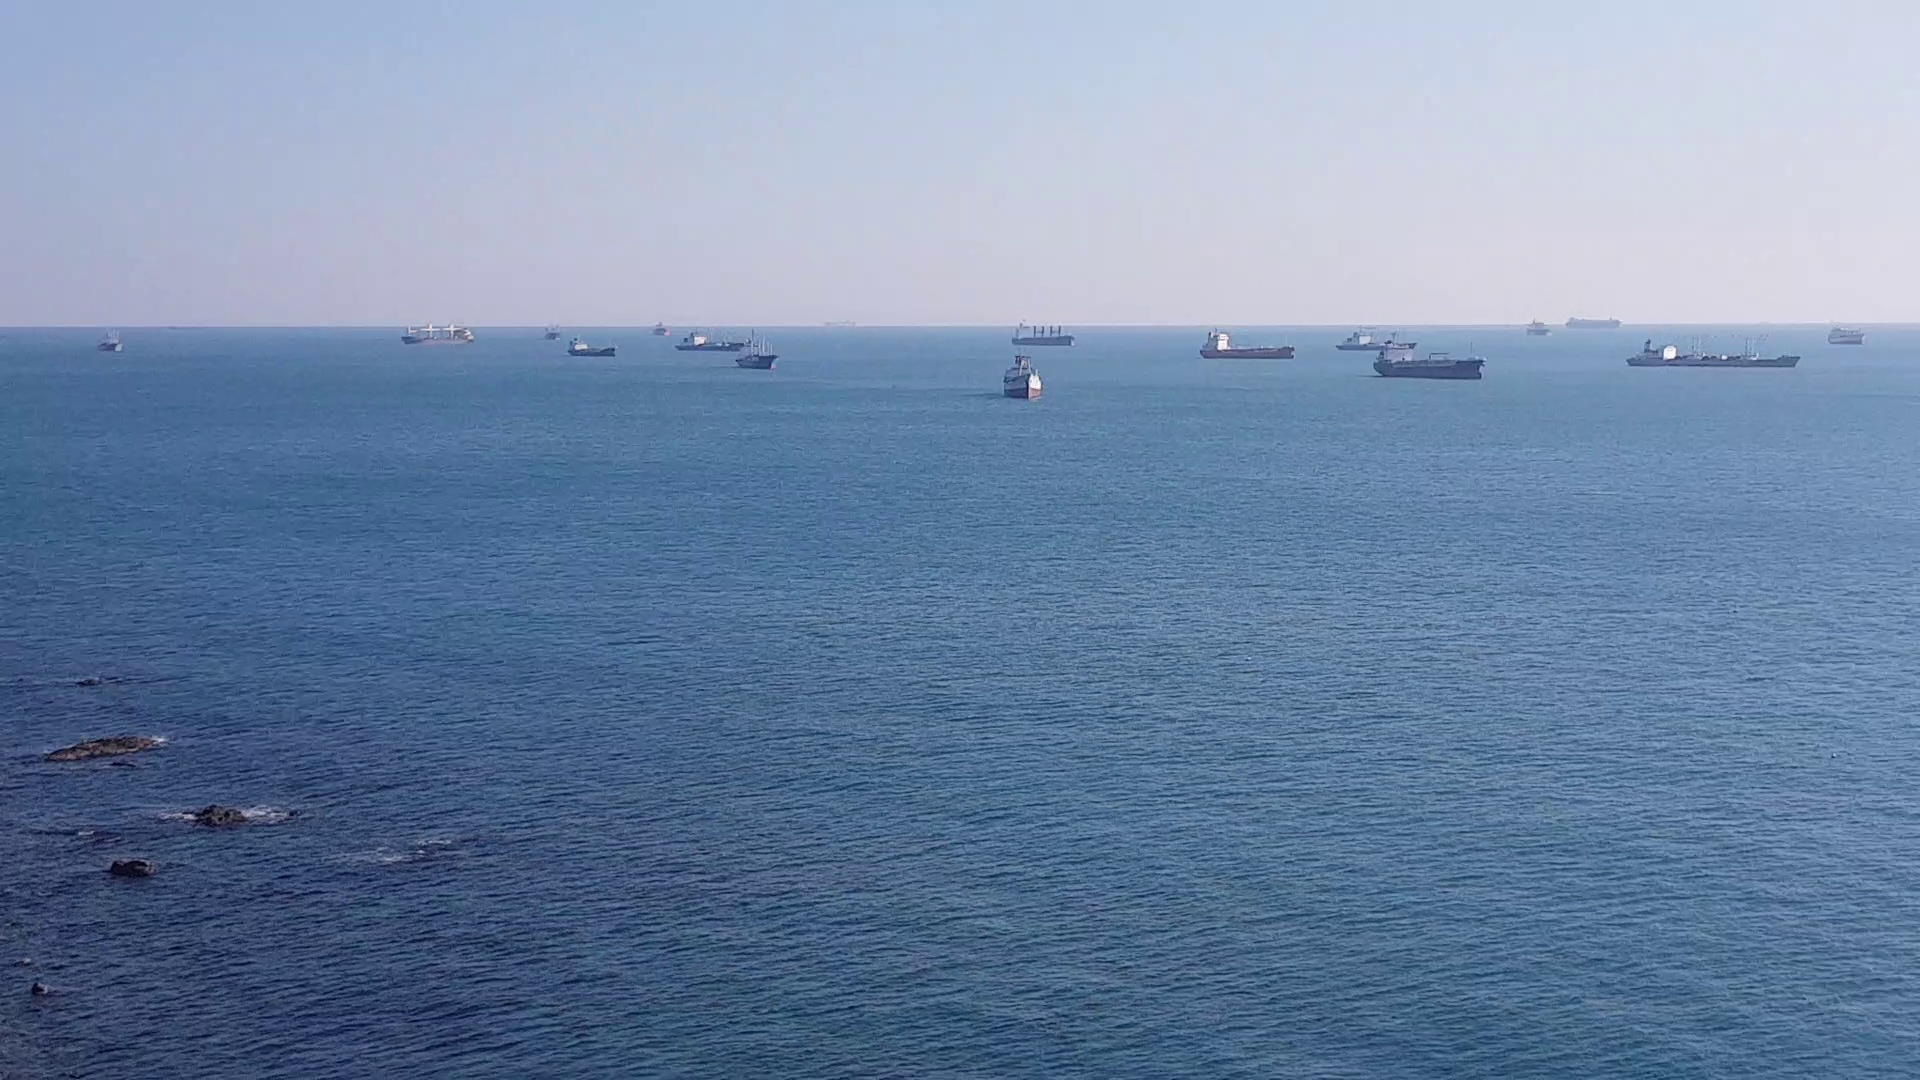Bulk_Carrier: (1350, 345, 1487, 376), (1193, 342, 1296, 360), (394, 328, 473, 345)
